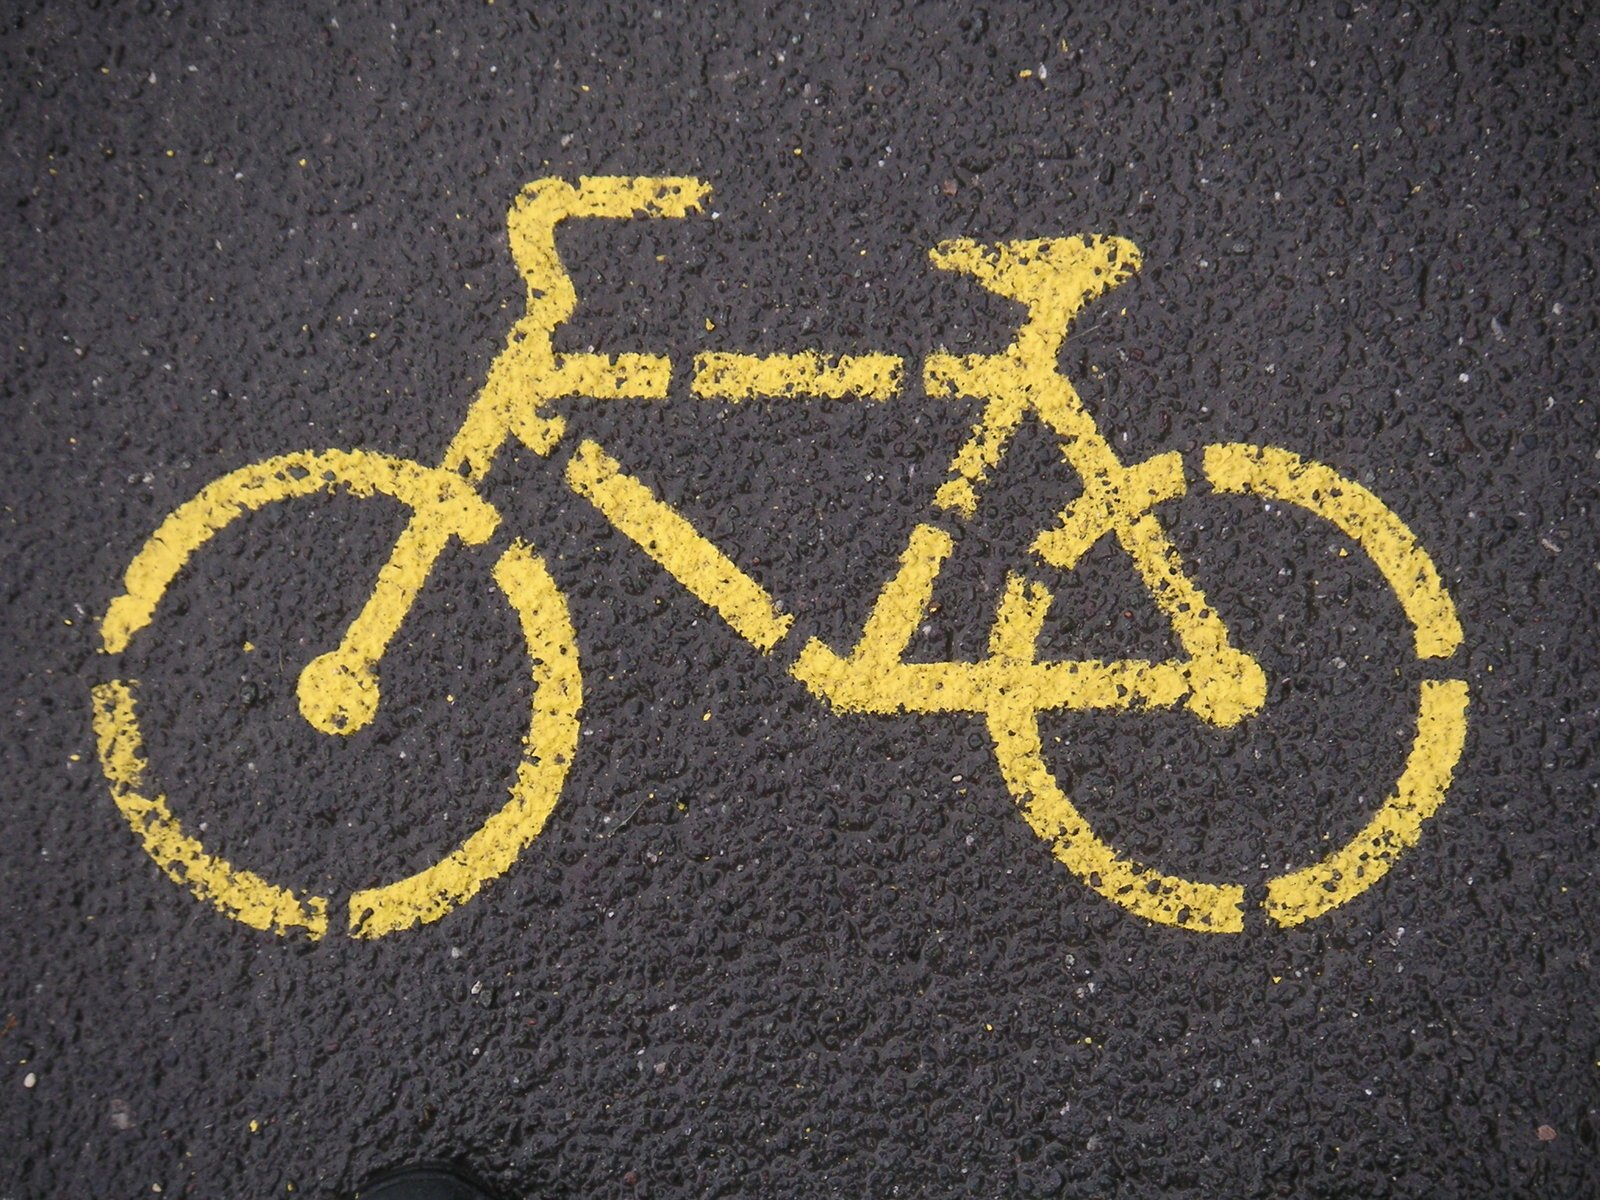Bicycle: (31, 95, 1600, 1123)
